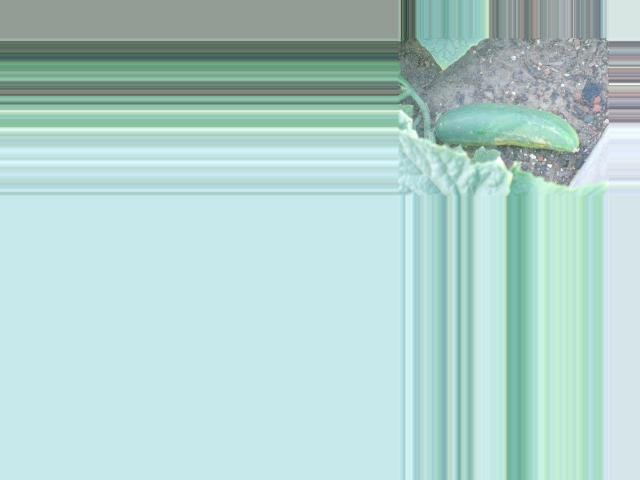cucumber: (436, 103, 579, 153)
